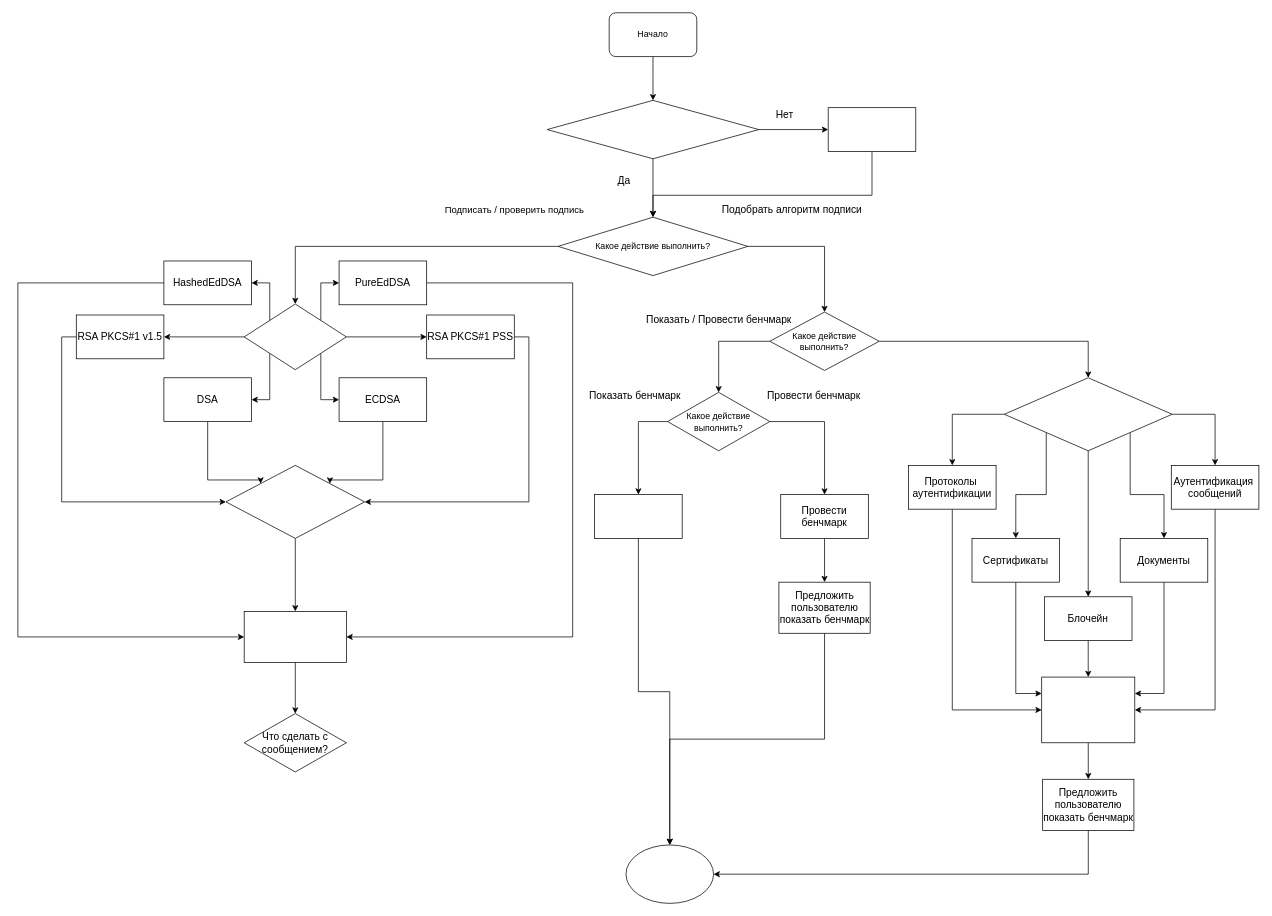
This 1272x916 diagram has some shape labels left out. The shapes that lost their labels are listed below. From the top down, each one's centre as x and y in pixels, then its label:
At (652,129): "Есть ли файлы бенчмарка на устройстве?".
At (871,129): "Предложить пользователю провести бенчмарк".
At (294,336): "Выбрать алгоритм подписи".
At (1088,414): "Получить рекомендацию алгоритма".
At (295,501): "Выбрать алгоритм хэширования".
At (638,516): "Вывести на экран таблицу с бенчмарком".
At (294,636): "Введите сообщение для подписи / проверки".
At (1088,709): "Показать соответствующие алгоритмы электронной подписи".
At (669,873): "Конец".
